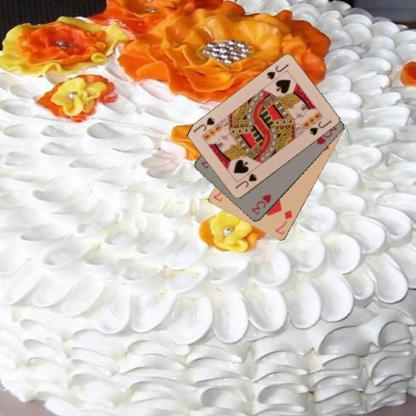3h: (249, 191, 273, 216)
7d: (272, 208, 294, 236)
Js: (264, 61, 290, 81), (232, 171, 258, 190)
